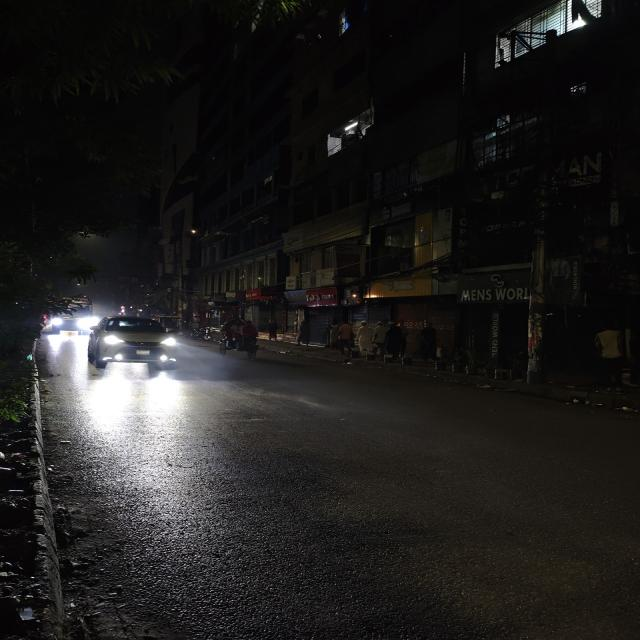bus: (46, 299, 92, 334)
car: (82, 314, 183, 376)
pedestrian: (380, 320, 407, 366), (354, 319, 380, 365), (330, 319, 357, 362)
rickshaw: (212, 318, 266, 362)
